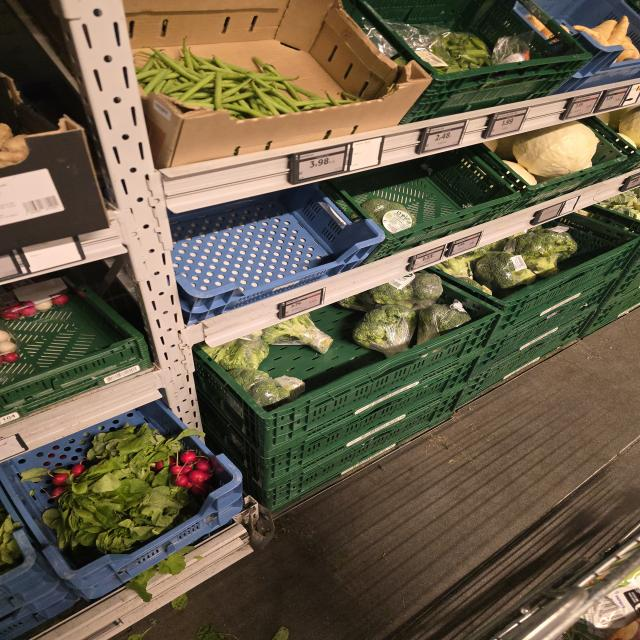Broccoli: (348, 272, 443, 311), (504, 229, 577, 278), (352, 303, 417, 358), (229, 366, 305, 408), (261, 313, 333, 354), (474, 251, 535, 291), (417, 302, 471, 344)
